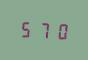five: (18, 18, 33, 39)
seven: (35, 19, 50, 40)
zero: (51, 20, 66, 41)
